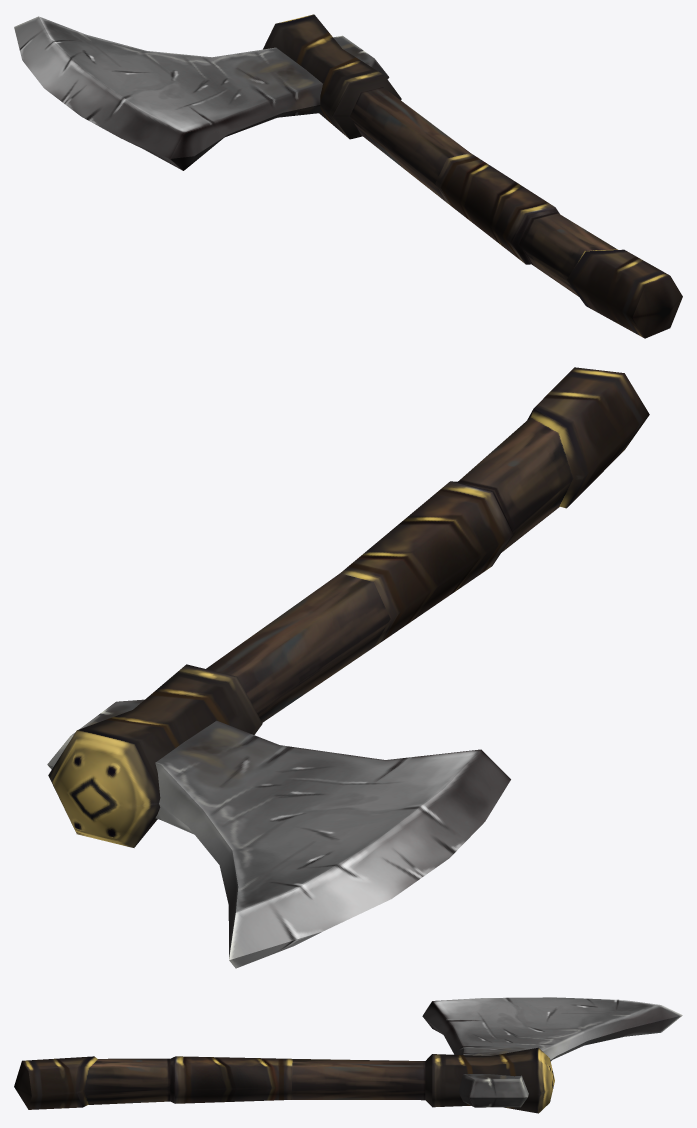
File: Axe_08.fbx
The picture shows the model from 3 angles, top to bottom: view 1: azimuth 30°, elevation 25°; view 2: azimuth 150°, elevation 25°; view 3: azimuth 270°, elevation 25°; orthographic projection. The views are drawn at different scales.
Parts seen in each view (by area): view 1: Axe_08_El1, Axe_08_El2; view 2: Axe_08_El1, Axe_08_El2; view 3: Axe_08_El1, Axe_08_El2.
Part boxes in pixels (<box>): Axe_08_El1: <box>14,14,401,170</box>; Axe_08_El2: <box>350,87,682,338</box>; Axe_08_El1: <box>47,664,510,968</box>; Axe_08_El2: <box>206,367,649,722</box>; Axe_08_El1: <box>422,997,682,1113</box>; Axe_08_El2: <box>14,1056,425,1109</box>.
Bounding box in the file's own units: 0.3116 × 0.0776 × 0.9057.
